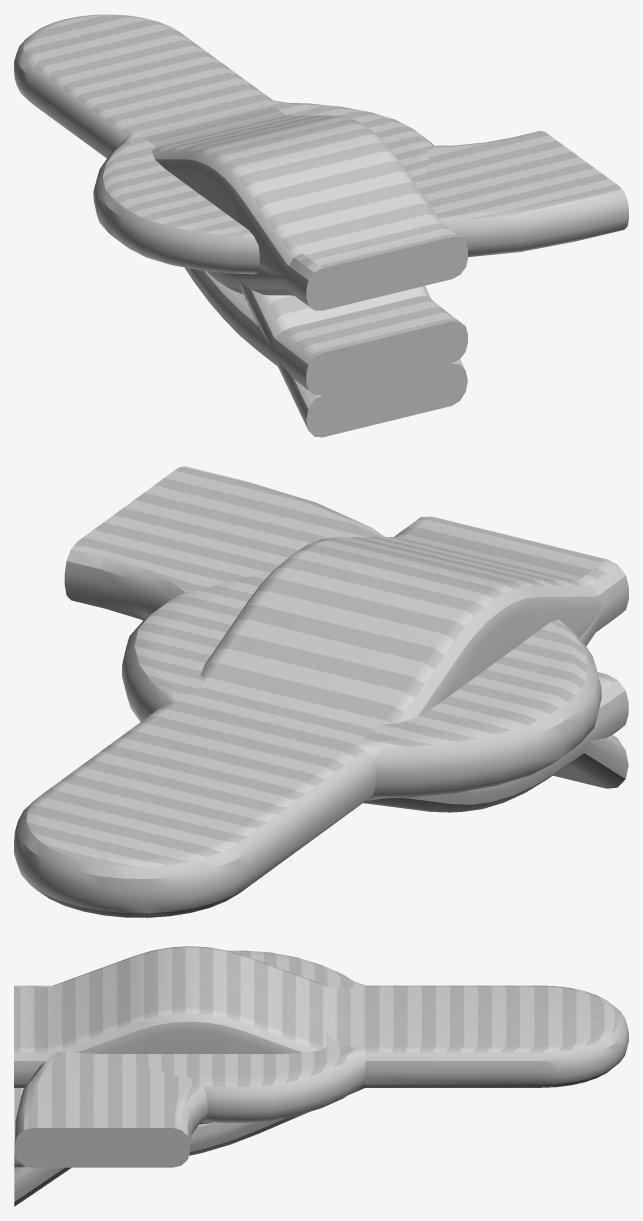
The model's file is Floor_2x2_BothSofter_thin.fbx.
The picture shows the model from 3 angles, top to bottom: view 1: azimuth 30°, elevation 25°; view 2: azimuth 150°, elevation 25°; view 3: azimuth 270°, elevation 25°; orthographic projection. The views are drawn at different scales.
Parts seen in each view (by area): view 1: Floor_2x2_BSr_Tn_hill, Floor_2x2_BSr_Tn_cap, Floor_2x2_BSr_Tn_rotate, Floor_2x2_BSr_Tn_circle, Floor_2x2_BSr_Tn_ramp2, Floor_2x2_BSr_Tn_ramp1, Floor_2x2_BSr_Tn_deep; view 2: Floor_2x2_BSr_Tn_hill, Floor_2x2_BSr_Tn_cap, Floor_2x2_BSr_Tn_circle, Floor_2x2_BSr_Tn_rotate, Floor_2x2_BSr_Tn_ramp2, Floor_2x2_BSr_Tn_ramp1, Floor_2x2_BSr_Tn_deep; view 3: Floor_2x2_BSr_Tn_hill, Floor_2x2_BSr_Tn_cap, Floor_2x2_BSr_Tn_rotate, Floor_2x2_BSr_Tn_circle, Floor_2x2_BSr_Tn_ramp2, Floor_2x2_BSr_Tn_ramp1.
Part boxes in pixels (x1,y1,x2,y2): Floor_2x2_BSr_Tn_hill: [136, 100, 467, 310]; Floor_2x2_BSr_Tn_cap: [14, 14, 272, 158]; Floor_2x2_BSr_Tn_rotate: [417, 130, 628, 256]; Floor_2x2_BSr_Tn_circle: [93, 100, 434, 274]; Floor_2x2_BSr_Tn_ramp2: [184, 267, 467, 395]; Floor_2x2_BSr_Tn_ramp1: [239, 281, 467, 437]; Floor_2x2_BSr_Tn_deep: [206, 243, 388, 308]; Floor_2x2_BSr_Tn_hill: [179, 516, 628, 744]; Floor_2x2_BSr_Tn_cap: [14, 701, 375, 917]; Floor_2x2_BSr_Tn_circle: [122, 573, 601, 800]; Floor_2x2_BSr_Tn_rotate: [64, 466, 384, 620]; Floor_2x2_BSr_Tn_ramp2: [363, 672, 628, 812]; Floor_2x2_BSr_Tn_ramp1: [375, 735, 628, 788]; Floor_2x2_BSr_Tn_deep: [373, 559, 628, 794]; Floor_2x2_BSr_Tn_hill: [14, 946, 365, 1087]; Floor_2x2_BSr_Tn_cap: [365, 985, 628, 1087]; Floor_2x2_BSr_Tn_rotate: [15, 1051, 207, 1167]; Floor_2x2_BSr_Tn_circle: [123, 950, 365, 1122]; Floor_2x2_BSr_Tn_ramp2: [14, 1087, 365, 1167]; Floor_2x2_BSr_Tn_ramp1: [14, 1166, 71, 1206].
Size of the model in its own units: 493 by 249 by 700.
